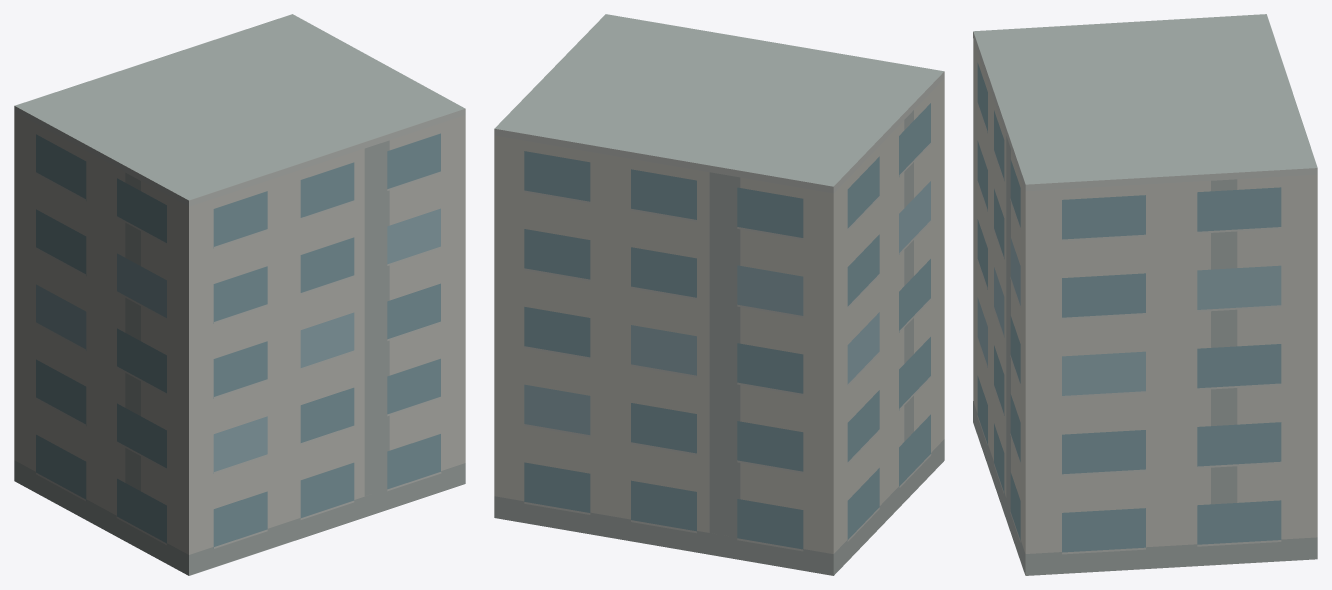
File: survey-upis-32638079.glb
The picture shows the model from 3 angles, left to right: view 1: azimuth 30°, elevation 25°; view 2: azimuth 150°, elevation 25°; view 3: azimuth 270°, elevation 25°; orthographic projection. The views are drawn at different scales.
Parts seen in each view (by area): view 1: survey-upis-32638079.tmp; view 2: survey-upis-32638079.tmp; view 3: survey-upis-32638079.tmp.
Part boxes in pixels (bbox=[...]): survey-upis-32638079.tmp: bbox=[14, 14, 465, 575]; survey-upis-32638079.tmp: bbox=[494, 14, 944, 575]; survey-upis-32638079.tmp: bbox=[973, 14, 1317, 575].
Bounding box in the file's own units: 13.2 × 14.1 × 11.26.
